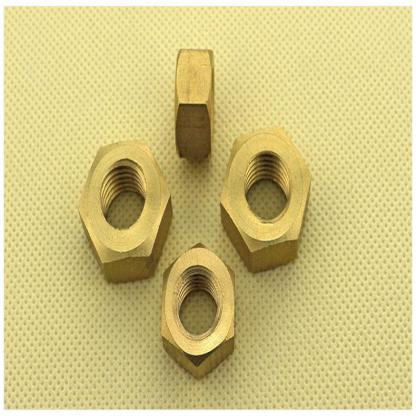FOD: (219, 124, 313, 274), (74, 140, 172, 282), (159, 240, 238, 378), (174, 44, 216, 164)
